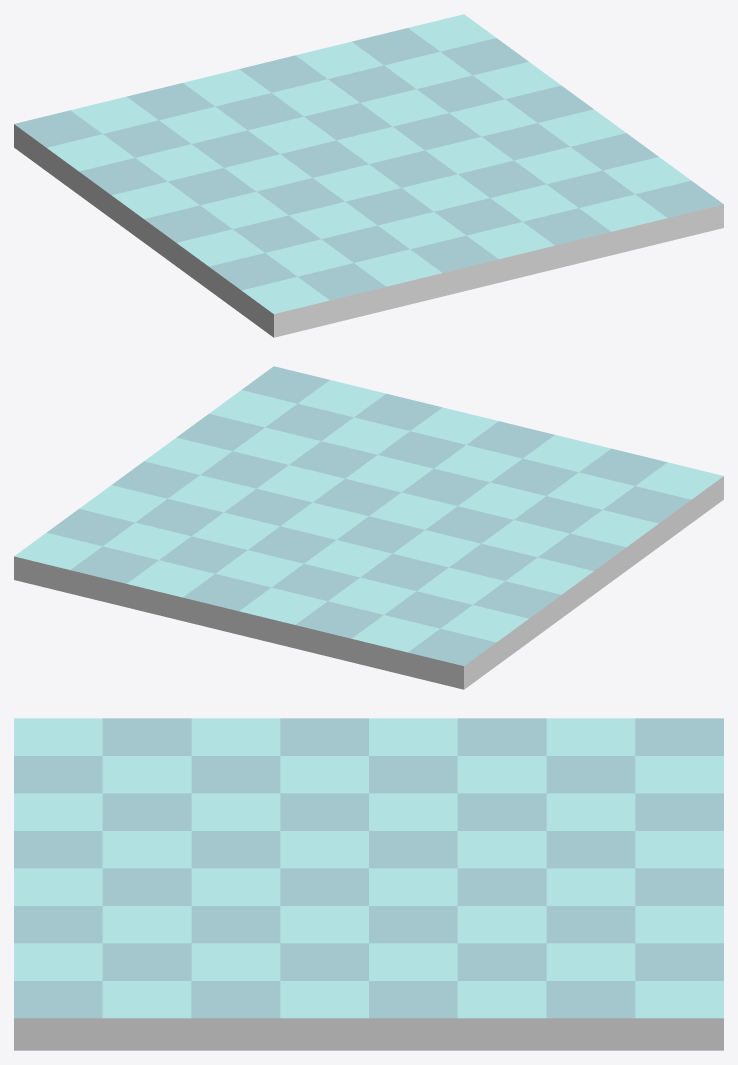
The picture shows the model from 3 angles, top to bottom: view 1: azimuth 30°, elevation 25°; view 2: azimuth 150°, elevation 25°; view 3: azimuth 270°, elevation 25°; orthographic projection. The views are drawn at different scales.
Visible parts, largest first — view 1: pasted__topnurbsCube6, pasted__topnurbsCube18, pasted__topnurbsCube27, pasted__topnurbsCube36, pasted__topnurbsCube45, pasted__topnurbsCube60, pasted__topnurbsCube9, pasted__topnurbsCube12, pasted__topnurbsCube21, pasted__topnurbsCube23, pasted__topnurbsCube32, pasted__topnurbsCube42 (+68 smaller); view 2: pasted__topnurbsCube3, pasted__topnurbsCube23, pasted__topnurbsCube30, pasted__topnurbsCube37, pasted__topnurbsCube44, pasted__topnurbsCube61, pasted__topnurbsCube13, pasted__topnurbsCube16, pasted__topnurbsCube18, pasted__topnurbsCube20, pasted__topnurbsCube25, pasted__topnurbsCube42 (+68 smaller); view 3: pasted__topnurbsCube10, pasted__topnurbsCube11, pasted__topnurbsCube14, pasted__topnurbsCube15, pasted__topnurbsCube26, pasted__topnurbsCube27, pasted__topnurbsCube30, pasted__topnurbsCube31, pasted__topnurbsCube42, pasted__topnurbsCube43, pasted__topnurbsCube46, pasted__topnurbsCube47 (+60 smaller).
Boxes of the visible parts, bbox=[...] form: pasted__topnurbsCube6: bbox=[570, 133, 658, 170]; pasted__topnurbsCube18: bbox=[490, 184, 578, 221]; pasted__topnurbsCube27: bbox=[402, 174, 489, 211]; pasted__topnurbsCube36: bbox=[313, 164, 400, 201]; pasted__topnurbsCube45: bbox=[224, 154, 312, 191]; pasted__topnurbsCube60: bbox=[144, 205, 232, 242]; pasted__topnurbsCube9: bbox=[579, 194, 667, 231]; pasted__topnurbsCube12: bbox=[482, 123, 569, 160]; pasted__topnurbsCube21: bbox=[393, 113, 481, 150]; pasted__topnurbsCube23: bbox=[328, 65, 416, 102]; pasted__topnurbsCube32: bbox=[239, 55, 327, 92]; pasted__topnurbsCube42: bbox=[321, 225, 409, 262]; pasted__topnurbsCube3: bbox=[79, 485, 167, 522]; pasted__topnurbsCube23: bbox=[159, 536, 247, 573]; pasted__topnurbsCube30: bbox=[248, 526, 335, 563]; pasted__topnurbsCube37: bbox=[337, 516, 424, 553]; pasted__topnurbsCube44: bbox=[425, 506, 513, 543]; pasted__topnurbsCube61: bbox=[505, 557, 593, 594]; pasted__topnurbsCube13: bbox=[168, 475, 255, 512]; pasted__topnurbsCube16: bbox=[70, 546, 158, 583]; pasted__topnurbsCube18: bbox=[321, 417, 409, 454]; pasted__topnurbsCube20: bbox=[256, 465, 344, 502]; pasted__topnurbsCube25: bbox=[410, 407, 498, 444]; pasted__topnurbsCube42: bbox=[490, 458, 578, 495]; pasted__topnurbsCube10: bbox=[102, 943, 191, 980]; pasted__topnurbsCube11: bbox=[191, 943, 280, 980]; pasted__topnurbsCube14: bbox=[457, 943, 546, 980]; pasted__topnurbsCube15: bbox=[546, 943, 635, 980]; pasted__topnurbsCube26: bbox=[102, 868, 191, 905]; pasted__topnurbsCube27: bbox=[191, 868, 280, 905]; pasted__topnurbsCube30: bbox=[457, 868, 546, 905]; pasted__topnurbsCube31: bbox=[546, 868, 635, 905]; pasted__topnurbsCube42: bbox=[102, 793, 191, 830]; pasted__topnurbsCube43: bbox=[191, 793, 280, 830]; pasted__topnurbsCube46: bbox=[457, 793, 546, 830]; pasted__topnurbsCube47: bbox=[546, 793, 635, 830].
Size of the model in its own units: 8 by 0.4 by 8.
